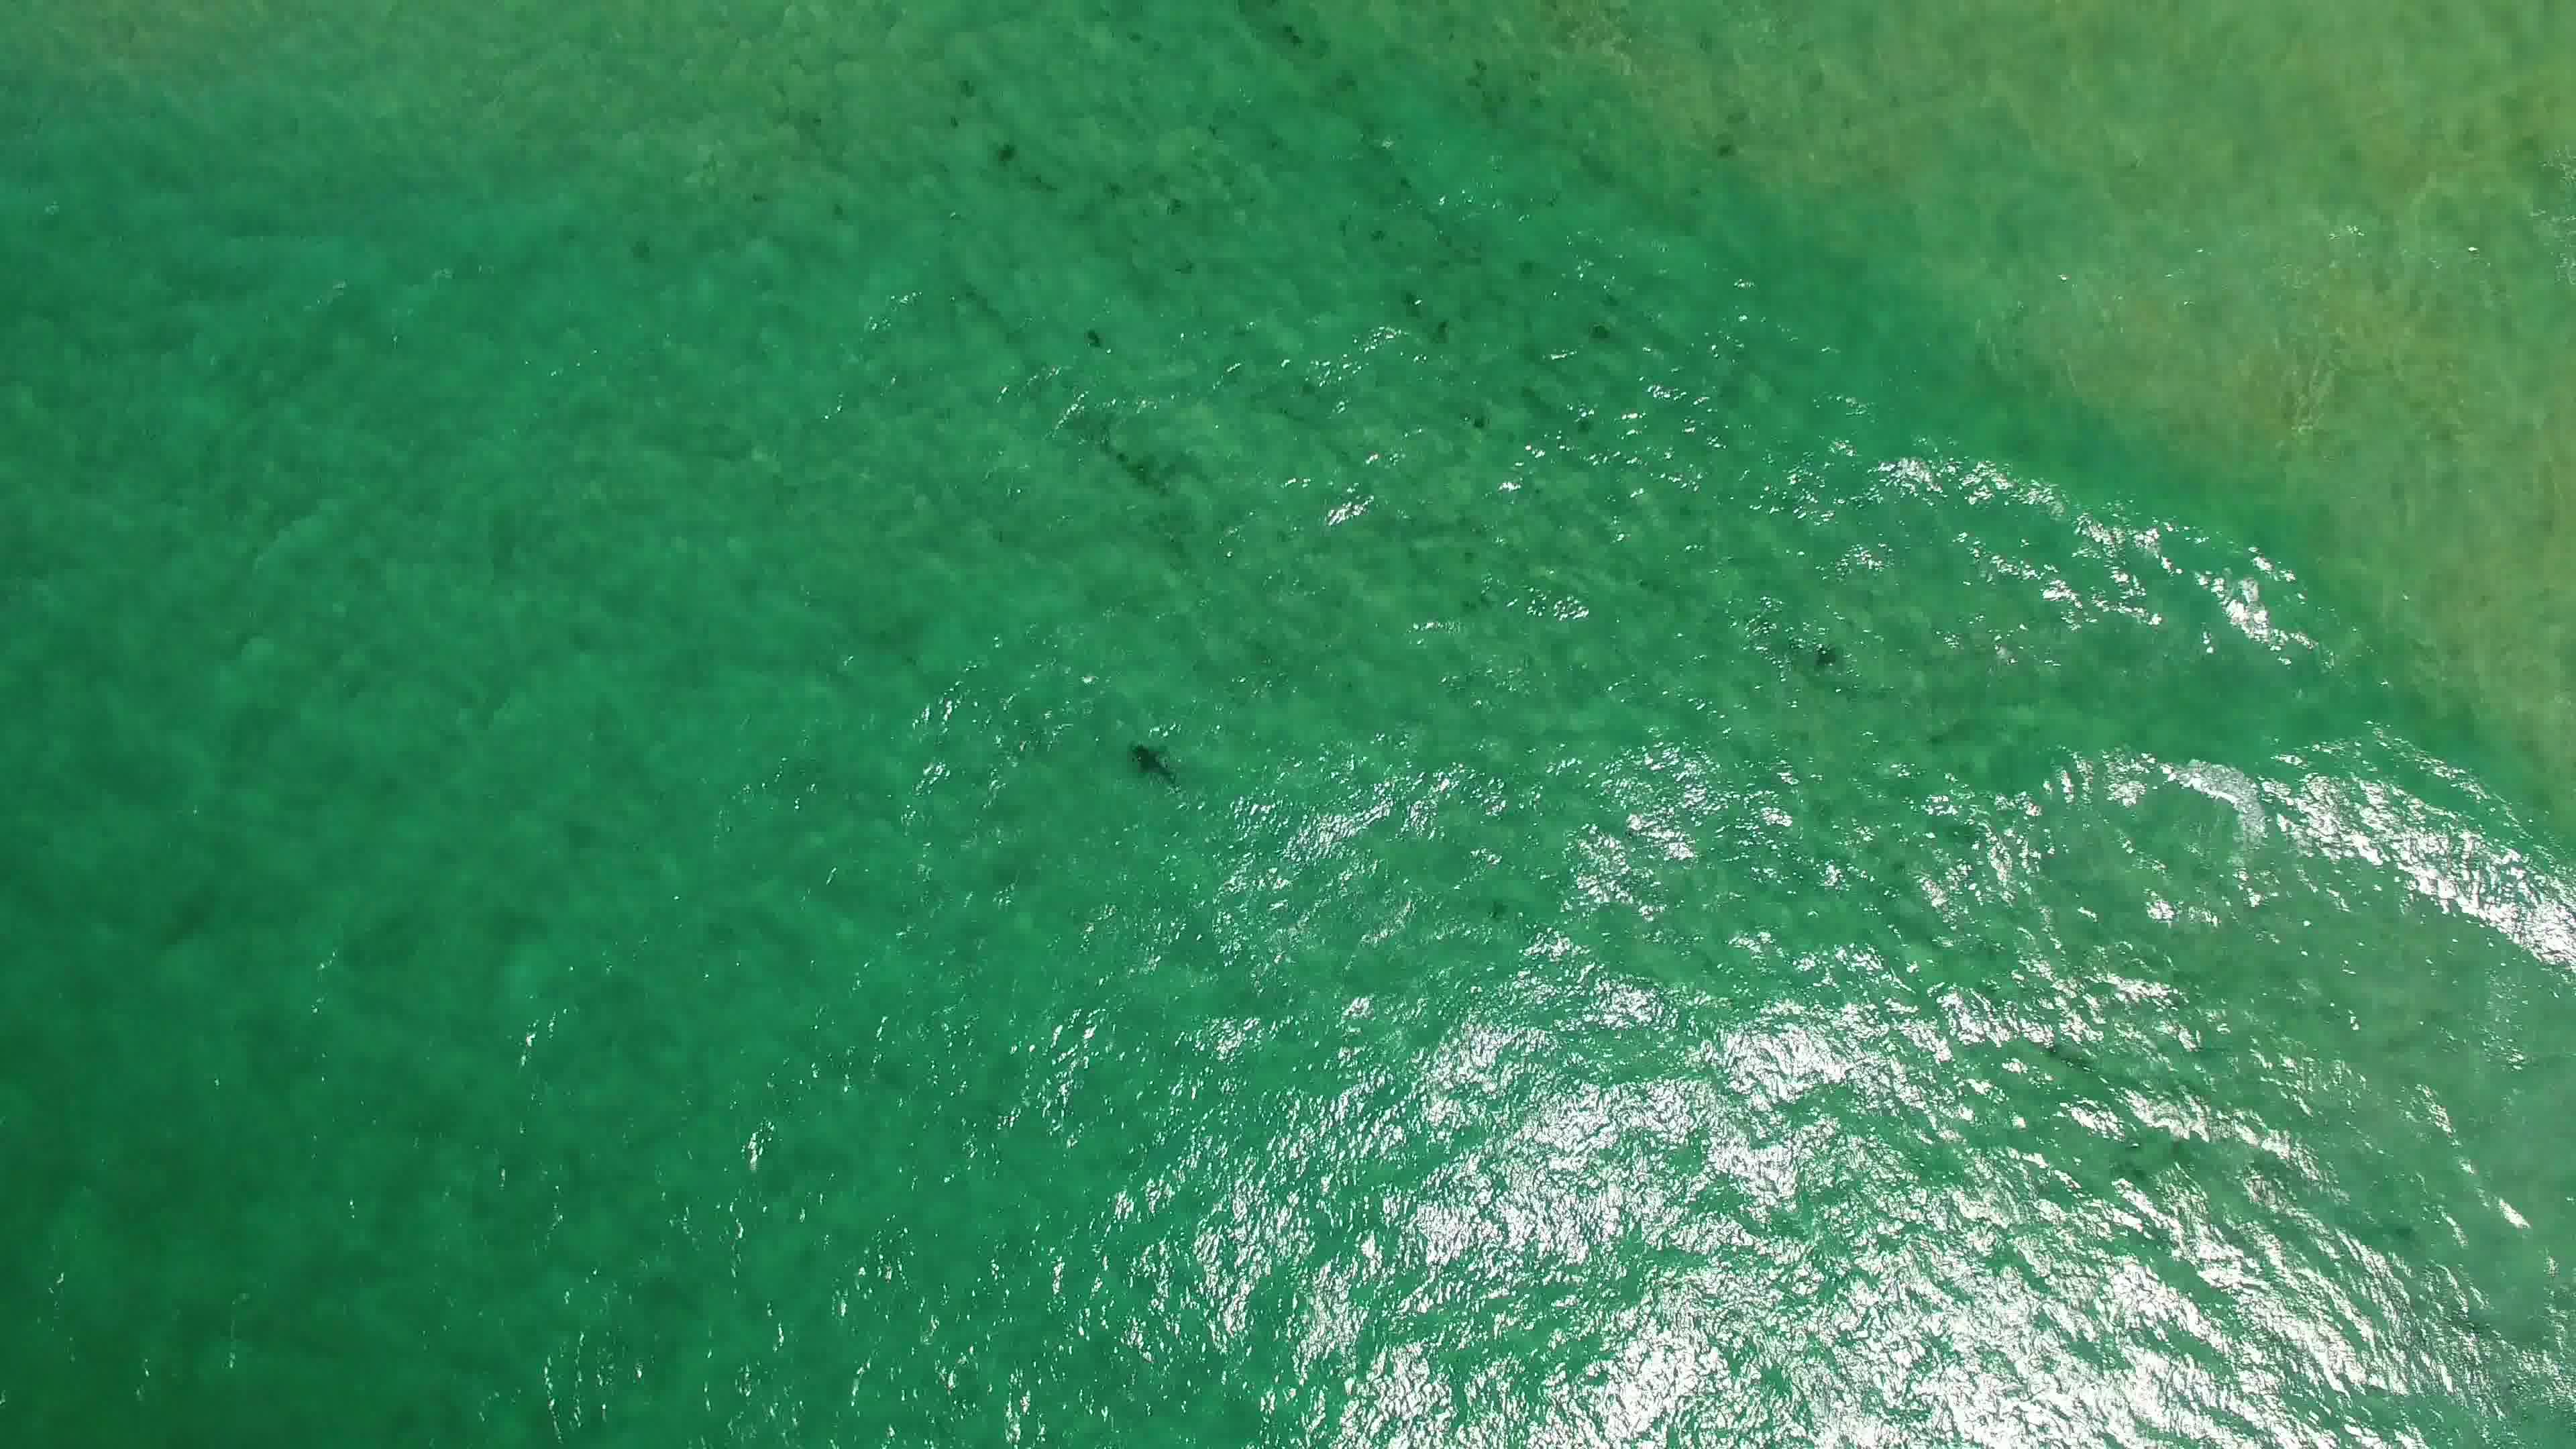shark: (1123, 738, 1185, 791)
